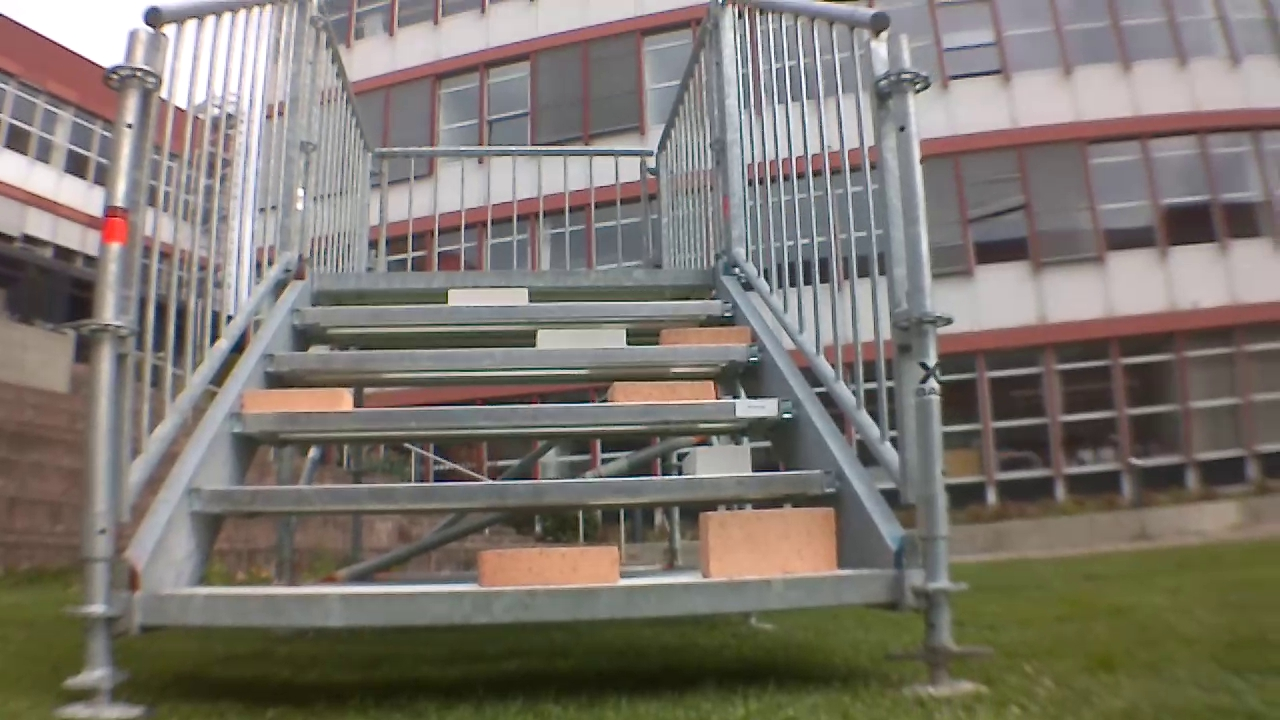brick: (702, 505, 843, 579), (475, 536, 619, 584), (241, 381, 359, 416), (682, 442, 751, 481), (654, 324, 753, 349), (614, 380, 711, 400), (534, 331, 631, 351), (447, 287, 538, 305)
edge: (137, 574, 925, 637), (185, 467, 854, 517), (229, 397, 798, 435), (256, 344, 770, 376), (290, 297, 741, 331), (312, 264, 721, 294)
stairs: (85, 17, 927, 642)
steps: (121, 263, 949, 630)
